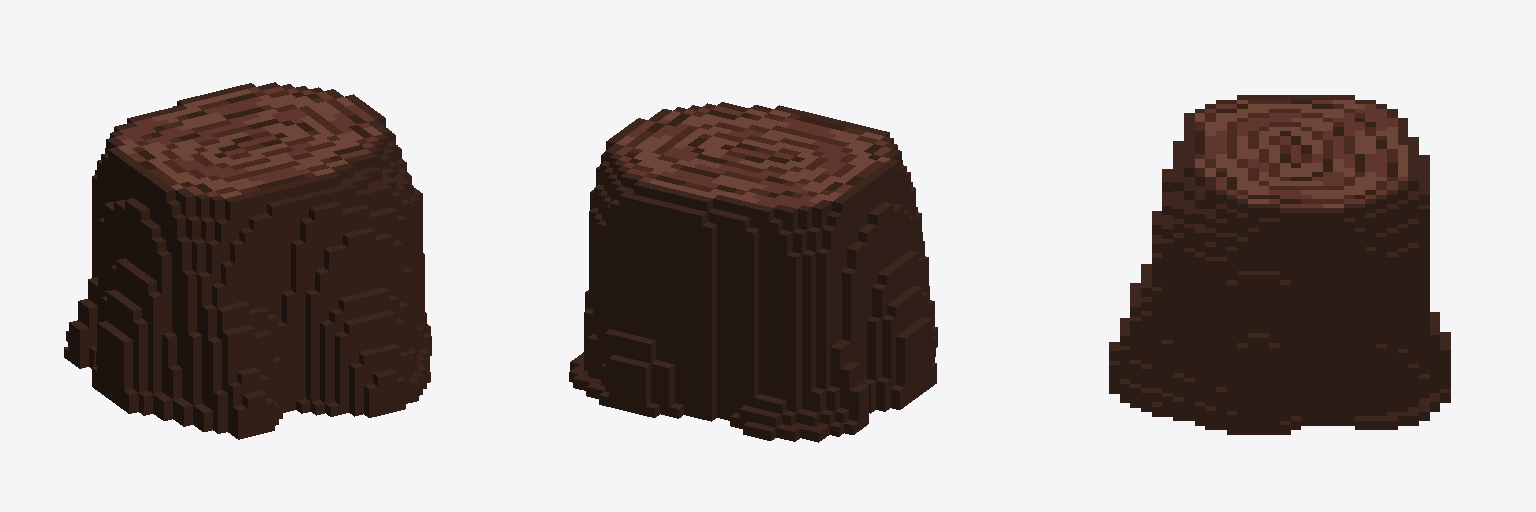
The picture shows the model from 3 angles: view 1: azimuth 30°, elevation 25°; view 2: azimuth 150°, elevation 25°; view 3: azimuth 270°, elevation 25°; orthographic projection.
Visible parts, largest first — view 1: object 1; view 2: object 1; view 3: object 1.
Part boxes in pixels (bbox=[...]): object 1: bbox=[64, 82, 431, 439]; object 1: bbox=[569, 102, 937, 442]; object 1: bbox=[1109, 95, 1450, 434].
Bounding box in the file's own units: 3.2 × 2.2 × 3.2.
Materials: 1 (1 with a texture image).